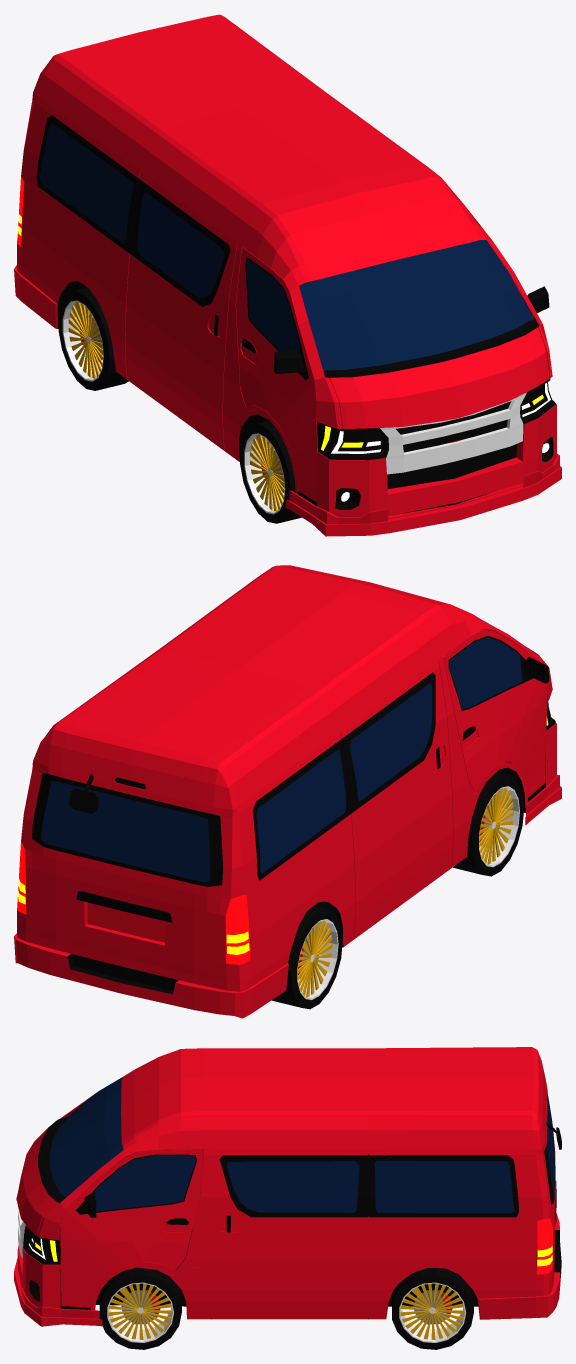
File: lowpolyhiace.glb
3 renders of one model, top to bottom at view 1: azimuth 30°, elevation 25°; view 2: azimuth 150°, elevation 25°; view 3: azimuth 270°, elevation 25°, orthographic. The views are drawn at different scales.
Visible parts, largest first — view 1: Body, glass, back_door, bumper, grill, lip, wheel3, wheel2, front_light; view 2: Body, back_door, glass, wheel2, wheel3, backlight, lip, bumper; view 3: Body, back_door, glass, wheel1, wheel4, bumper, lip, front_light, backlight, disk.001, disk.
Part boxes in pixels (bbox=[...]): Body: bbox=[14, 14, 552, 505]; glass: bbox=[39, 123, 534, 370]; back_door: bbox=[124, 171, 237, 450]; bumper: bbox=[317, 404, 556, 519]; grill: bbox=[380, 392, 526, 474]; lip: bbox=[285, 454, 561, 536]; wheel3: bbox=[58, 287, 128, 390]; wheel2: bbox=[240, 420, 301, 523]; front_light: bbox=[317, 378, 555, 459]; Body: bbox=[14, 565, 552, 1018]; back_door: bbox=[340, 660, 453, 939]; glass: bbox=[41, 621, 522, 882]; wheel2: bbox=[453, 773, 524, 876]; wheel3: bbox=[272, 906, 342, 1009]; backlight: bbox=[17, 841, 250, 964]; lip: bbox=[525, 775, 561, 825]; bumper: bbox=[506, 723, 556, 786]; Body: bbox=[16, 1047, 561, 1319]; back_door: bbox=[211, 1149, 369, 1319]; glass: bbox=[49, 1077, 554, 1213]; wheel1: bbox=[99, 1267, 181, 1349]; wheel4: bbox=[392, 1268, 473, 1349]; bumper: bbox=[17, 1223, 60, 1308]; lip: bbox=[14, 1258, 102, 1326]; front_light: bbox=[23, 1225, 60, 1264]; backlight: bbox=[536, 1218, 553, 1274]; disk.001: bbox=[413, 1290, 452, 1324]; disk: bbox=[121, 1290, 160, 1324].
Bounding box in the file's own units: 1.44 × 1.42 × 3.11.
